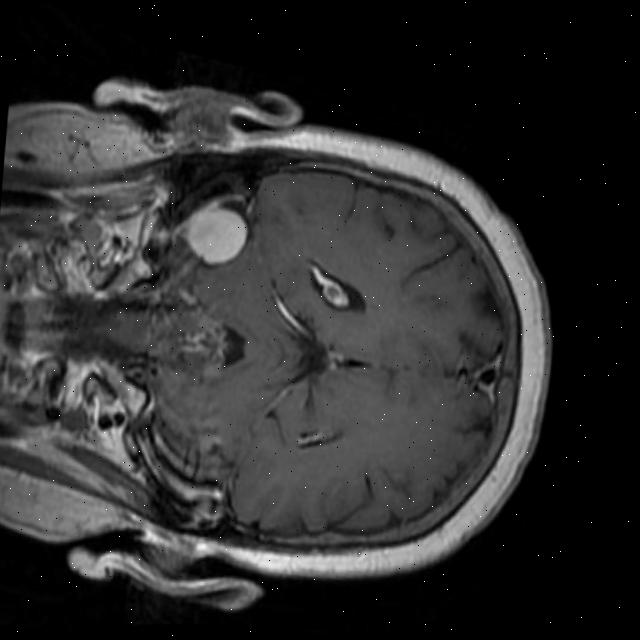Meningioma: (175, 198, 252, 273)
